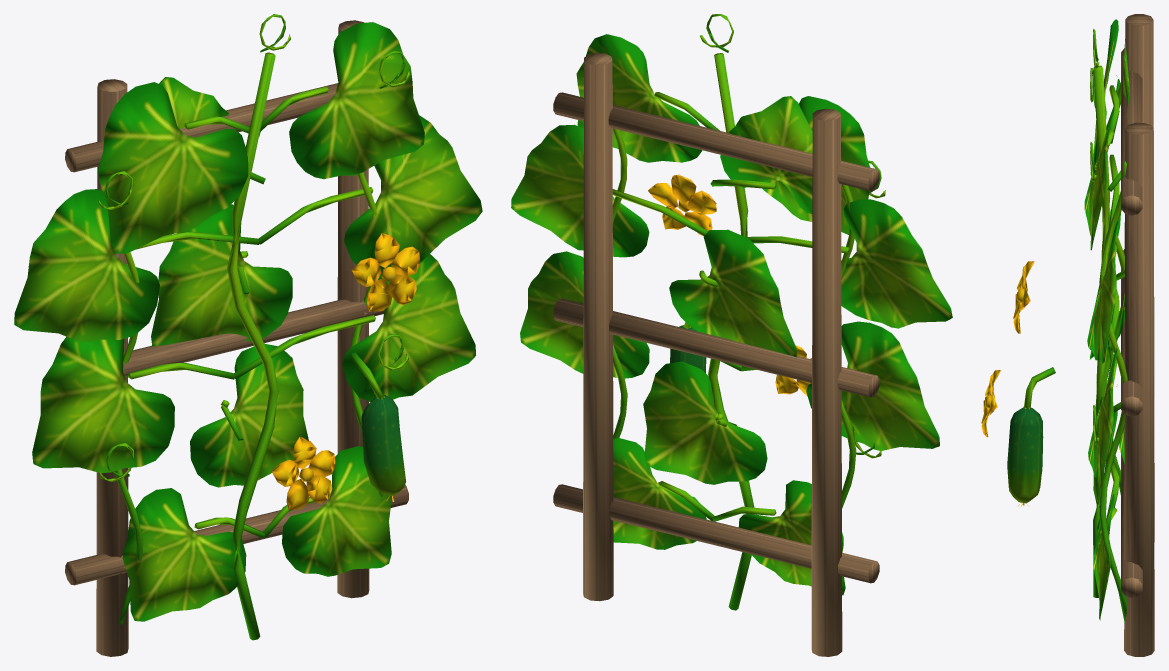
Rendered from NP_Cucumber_Flowering_LOD1.fbx.
The picture shows the model from 3 angles, left to right: view 1: azimuth 30°, elevation 25°; view 2: azimuth 150°, elevation 25°; view 3: azimuth 270°, elevation 25°; orthographic projection. The views are drawn at different scales.
Visible parts, largest first — view 1: NP_Cucumber_Flowering; view 2: NP_Cucumber_Flowering; view 3: NP_Cucumber_Flowering.
Boxes of the visible parts, bbox=[...] form: NP_Cucumber_Flowering: bbox=[14, 14, 482, 656]; NP_Cucumber_Flowering: bbox=[511, 14, 952, 656]; NP_Cucumber_Flowering: bbox=[981, 14, 1154, 656].
Size of the model in its own units: 91.11 by 116 by 31.65.
